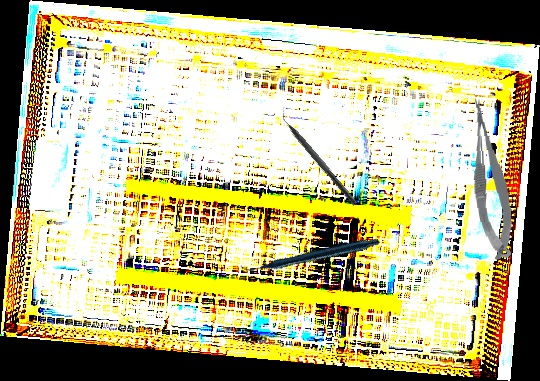Chopper: (274, 106, 364, 206)
Handpiece: (239, 192, 381, 316)
Micro Scissor: (466, 96, 517, 262)
